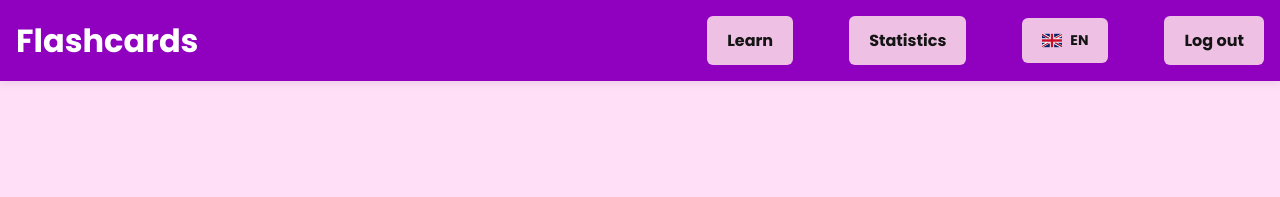
Test: Navbar component › Toggles language dropdown when language button is clicked
The image size is (1280, 197).
Expected: the text "PL" is not shown
# Click to show dropdown
Click the button "EN" at (1065, 40), box [1022,18,1108,63]
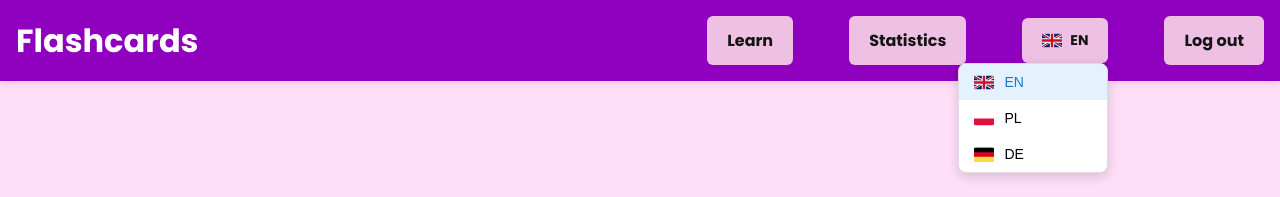
Now the text "PL" is shown, box [1004,110,1022,126]
Now the text "DE" is shown, box [1004,146,1024,162]
# Click again to hide dropdown
Click the 1st button "EN" at (1065, 40), box [1022,18,1108,63]
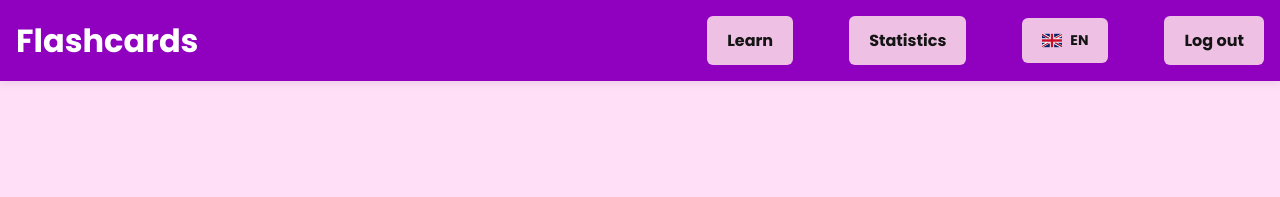
Now the button "PL" is gone
Now the button "DE" is gone
